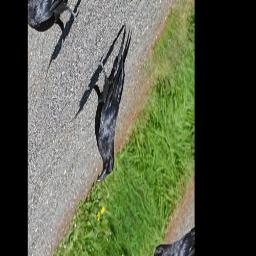Crow: (65, 7, 160, 191)
